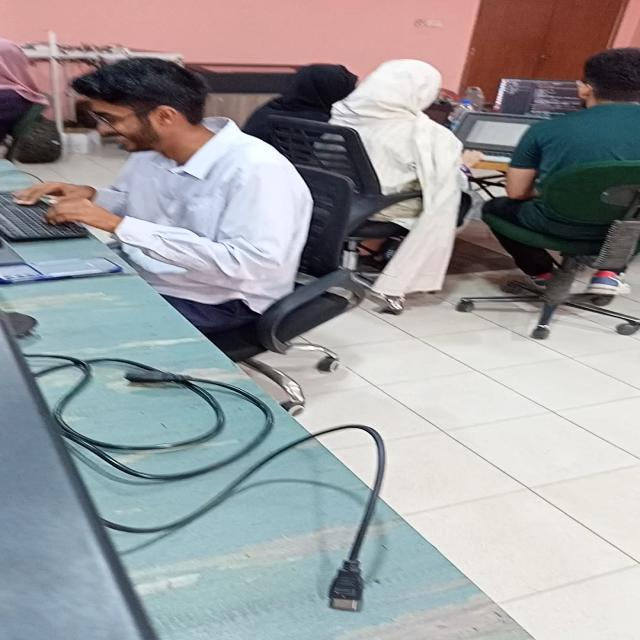dress: (77, 118, 308, 311)
